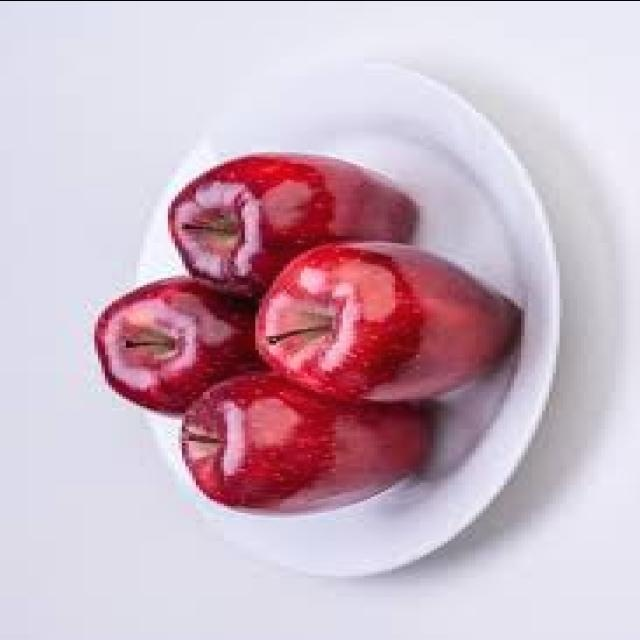agrume: (245, 234, 519, 418), (132, 142, 424, 298), (163, 374, 429, 526), (58, 259, 290, 409)
